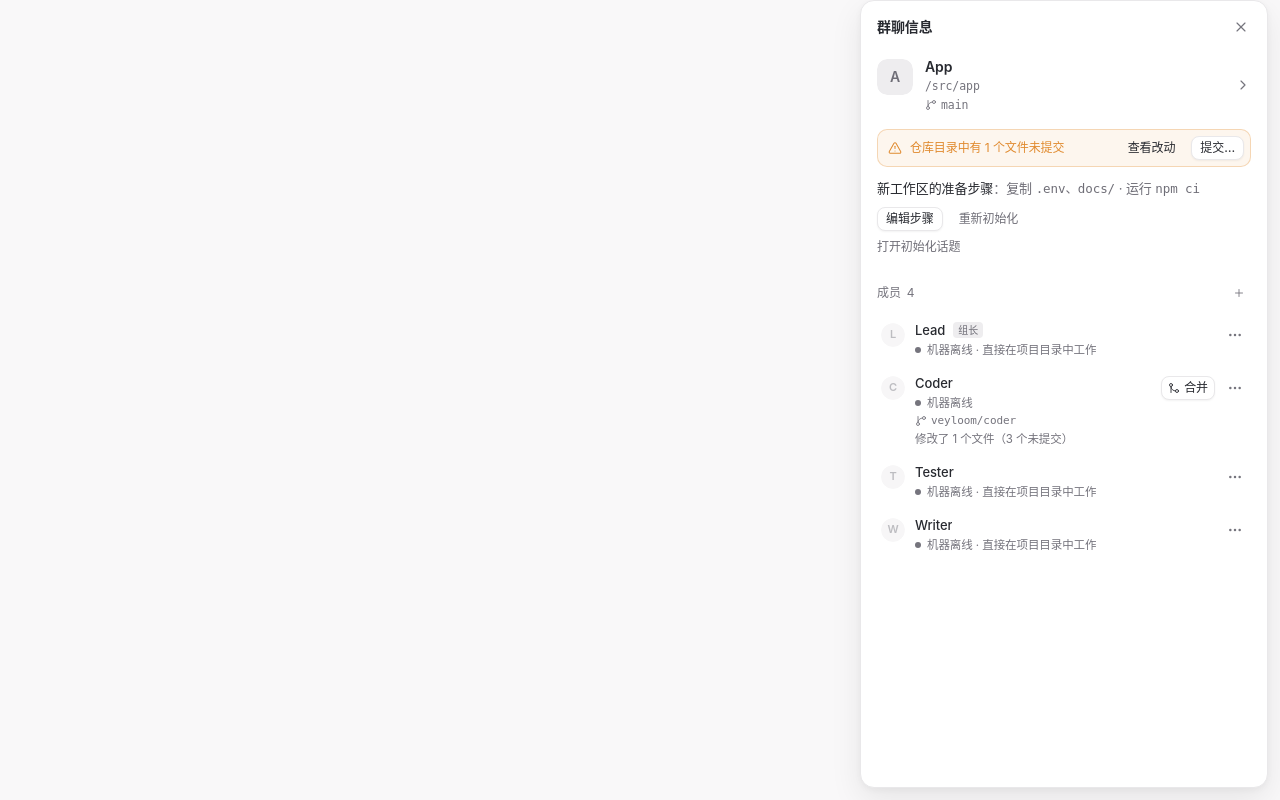
Scenario: what a merge takes, and a branch reset to the main line › merges nothing when every file is left out
Click the button "合并": (1188, 388) [1161, 376, 1215, 400]
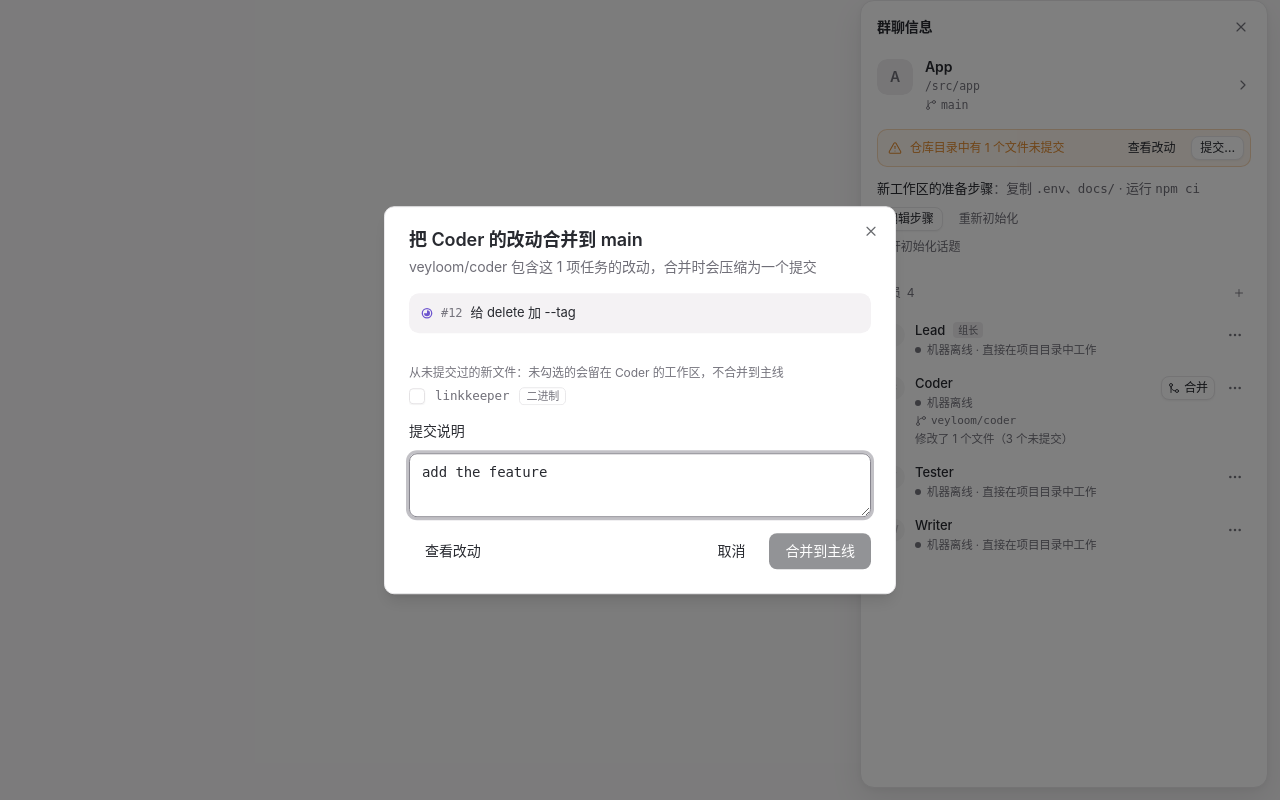
Now the button "合并到主线" is disabled, box [769, 533, 871, 569]
Click the checkbox named "linkkeeper": (417, 396) [409, 388, 425, 404]
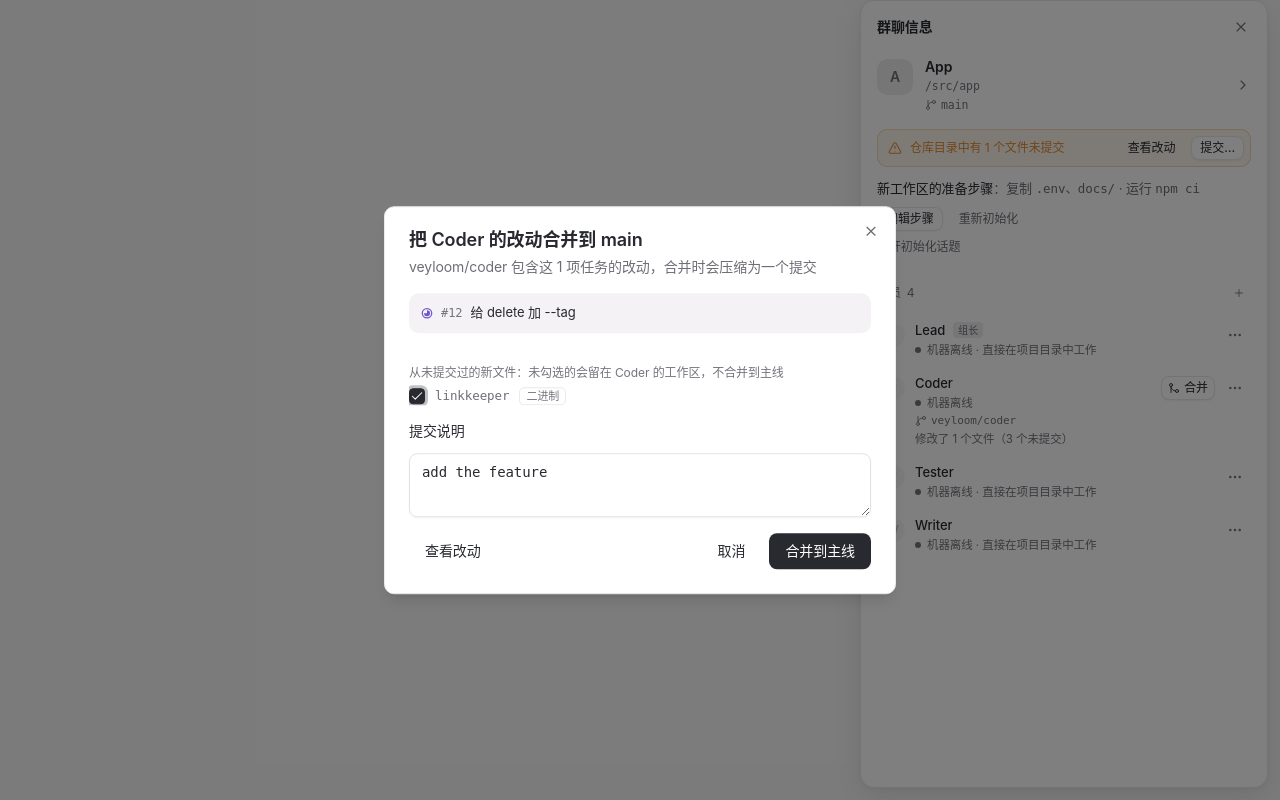
Now the button "合并到主线" is enabled, box [769, 533, 871, 569]
